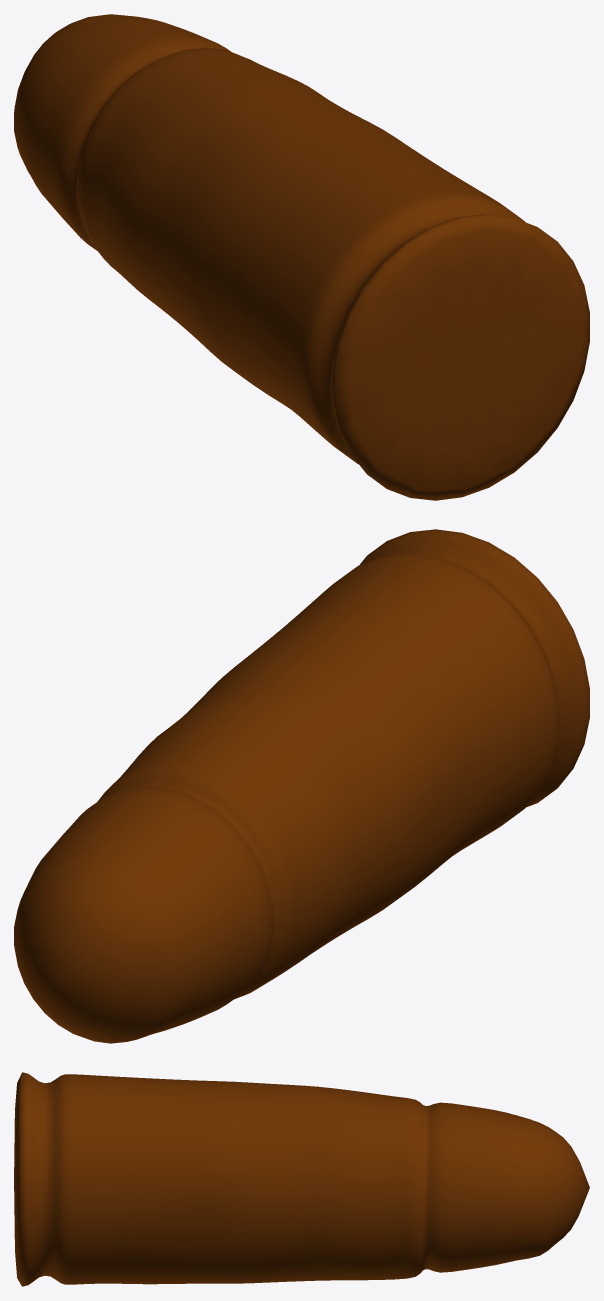
File: Bala (1).fbx
3 renders of one model, top to bottom at view 1: azimuth 30°, elevation 25°; view 2: azimuth 150°, elevation 25°; view 3: azimuth 270°, elevation 25°, orthographic. The views are drawn at different scales.
Parts seen in each view (by area): view 1: Bala; view 2: Bala; view 3: Bala.
Part boxes in pixels (left/top/right/bottom): Bala: left=14, top=14, right=589, bottom=500; Bala: left=14, top=529, right=589, bottom=1043; Bala: left=14, top=1072, right=589, bottom=1286.
Size of the model in its own units: 0.0187 by 0.0519 by 0.0195.
